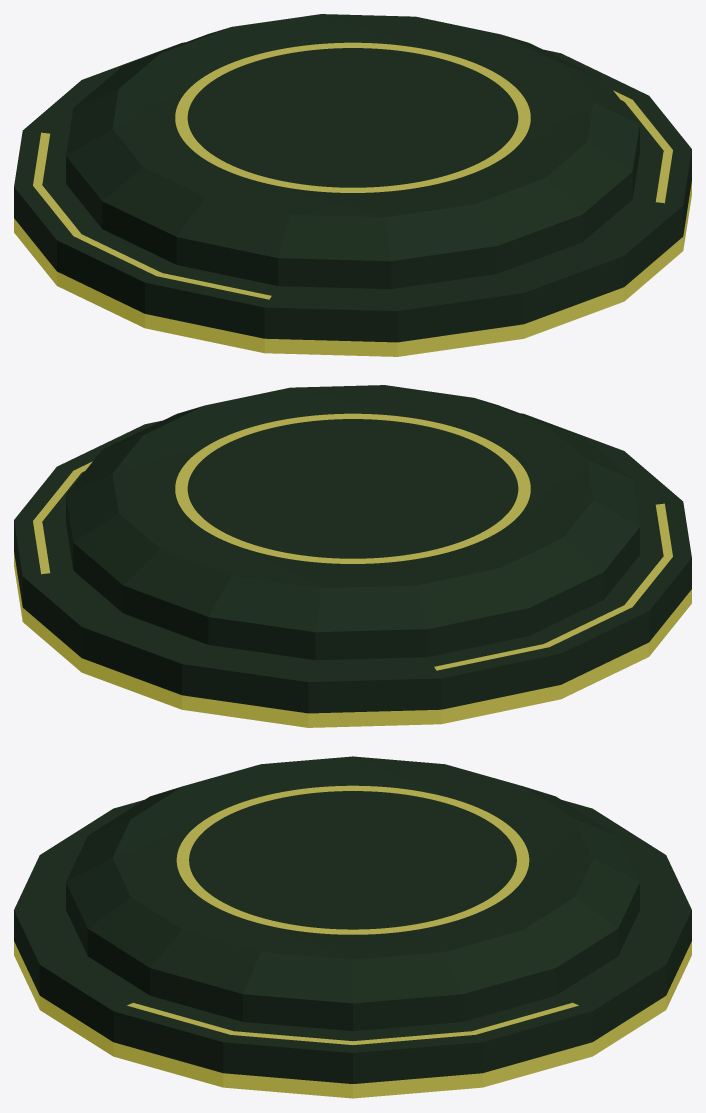
The model's file is new-podium.glb.
3 renders of one model, top to bottom at view 1: azimuth 30°, elevation 25°; view 2: azimuth 150°, elevation 25°; view 3: azimuth 270°, elevation 25°, orthographic.
Visible parts, largest first — view 1: Cylinder; view 2: Cylinder; view 3: Cylinder.
Boxes of the visible parts, x1,y1,x2,y2 form: Cylinder: (14,14,691,356); Cylinder: (14,385,691,727); Cylinder: (14,756,691,1098).
Size of the model in its own units: 2 by 0.3163 by 2.
